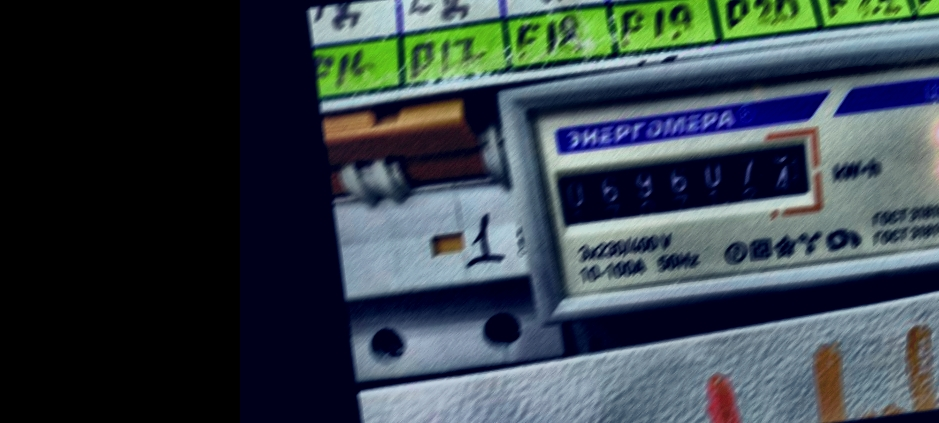0: (702, 157, 724, 189), (564, 178, 586, 208)
4: (772, 163, 792, 193)
6: (667, 163, 690, 195), (599, 172, 621, 203)
7: (738, 154, 758, 186)
9: (634, 169, 654, 199)
screen: (539, 119, 833, 245)
